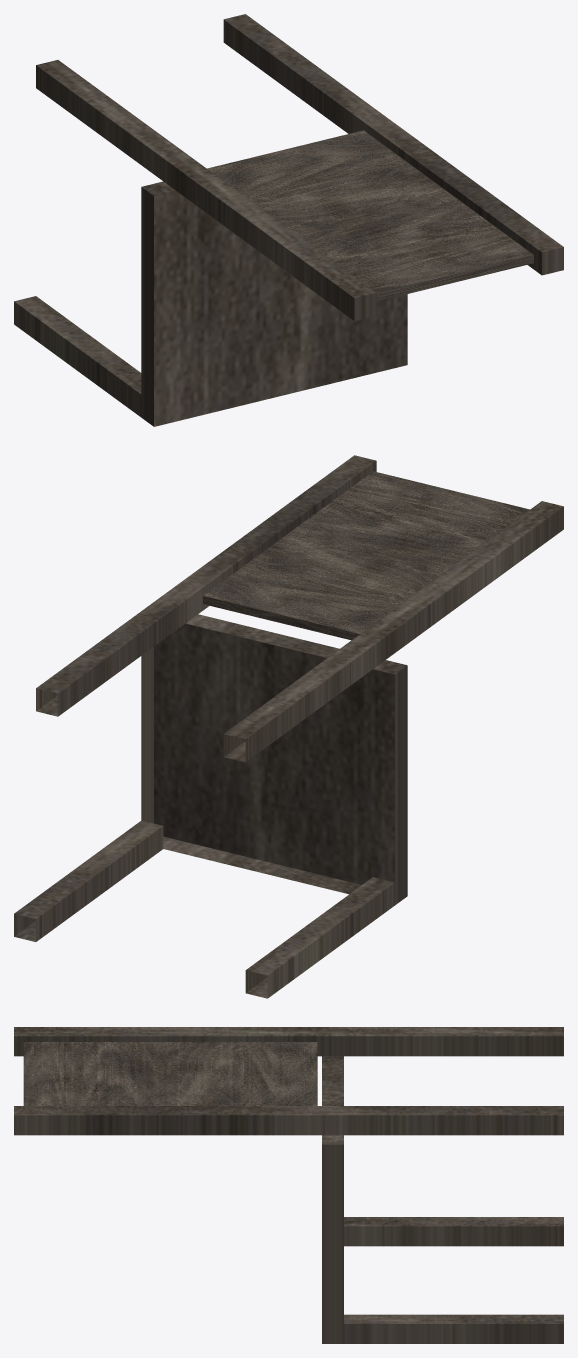
File: chair58_wtf.obj
The picture shows the model from 3 angles, top to bottom: view 1: azimuth 30°, elevation 25°; view 2: azimuth 150°, elevation 25°; view 3: azimuth 270°, elevation 25°; orthographic projection. The views are drawn at different scales.
Parts seen in each view (by area): view 1: group2, group3, group4; view 2: group2, group3, group4; view 3: group2, group4.
Boxes of the visible parts, <box> form: group2: <box>14,14,563,426</box>; group3: <box>154,191,407,426</box>; group4: <box>207,130,533,301</box>; group2: <box>14,455,563,998</box>; group3: <box>154,623,394,884</box>; group4: <box>203,471,529,640</box>; group2: <box>14,1027,563,1343</box>; group4: <box>23,1042,317,1105</box>.
Bounding box in the file's own units: 304 × 290 × 660.
